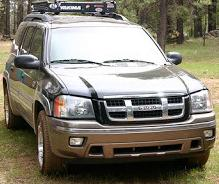front_view: (50, 89, 218, 158)
headlight: (53, 91, 97, 123)
side_glass: (15, 23, 45, 63)
